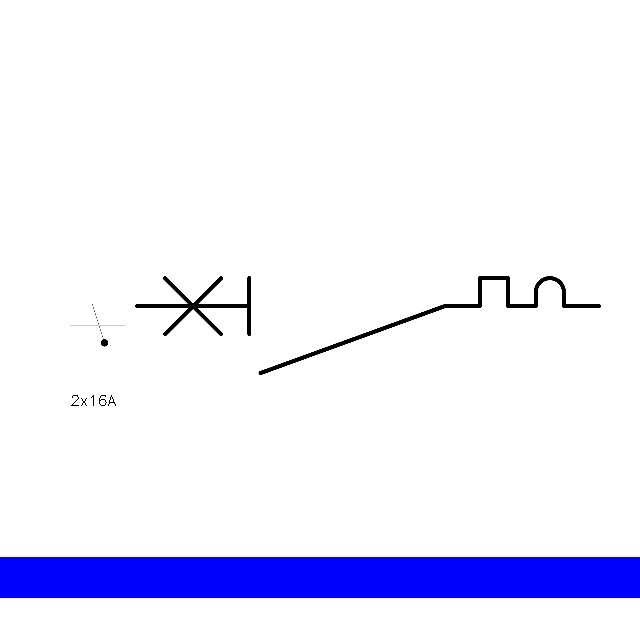interruptor_termomagnetico: (124, 266, 610, 385)
